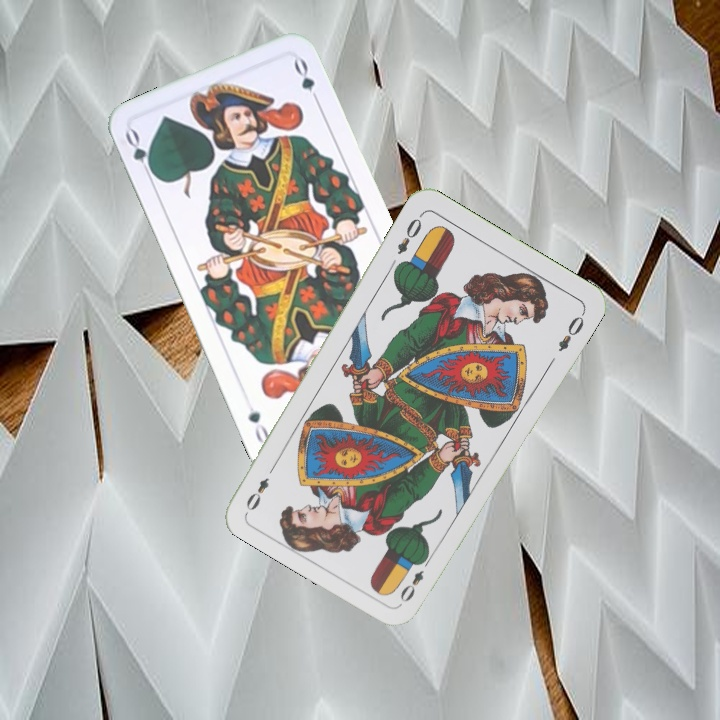EO: (395, 552, 434, 605), (393, 209, 425, 257)
GO: (121, 125, 160, 182)
